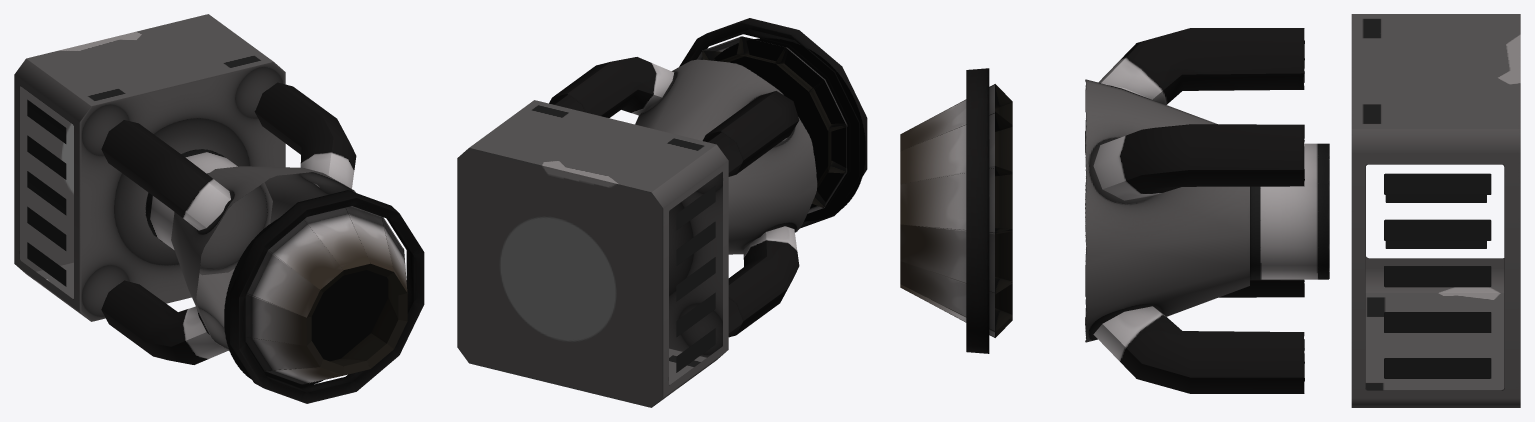
File: obj_interactive_thruster_02_pose0.fbx
3 renders of one model, left to right at view 1: azimuth 30°, elevation 25°; view 2: azimuth 150°, elevation 25°; view 3: azimuth 270°, elevation 25°, orthographic. The views are drawn at different scales.
Visible parts, largest first — view 1: obj_interactive_thruster_02_pose0; view 2: obj_interactive_thruster_02_pose0; view 3: obj_interactive_thruster_02_pose0.
Part boxes in pixels (x1,y1,x2,y2): obj_interactive_thruster_02_pose0: (14, 14, 424, 403); obj_interactive_thruster_02_pose0: (457, 18, 867, 407); obj_interactive_thruster_02_pose0: (900, 14, 1520, 407).
Bounding box in the file's own units: 2.04 × 2.04 × 4.03.
